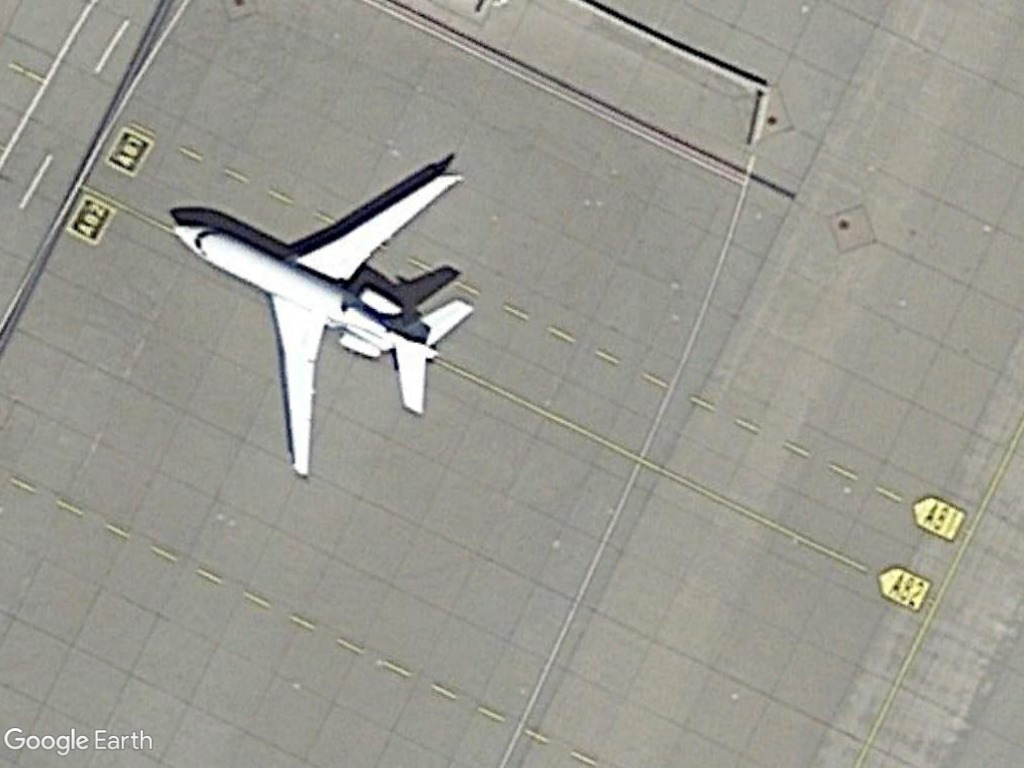chartered: (172, 166, 478, 484)
